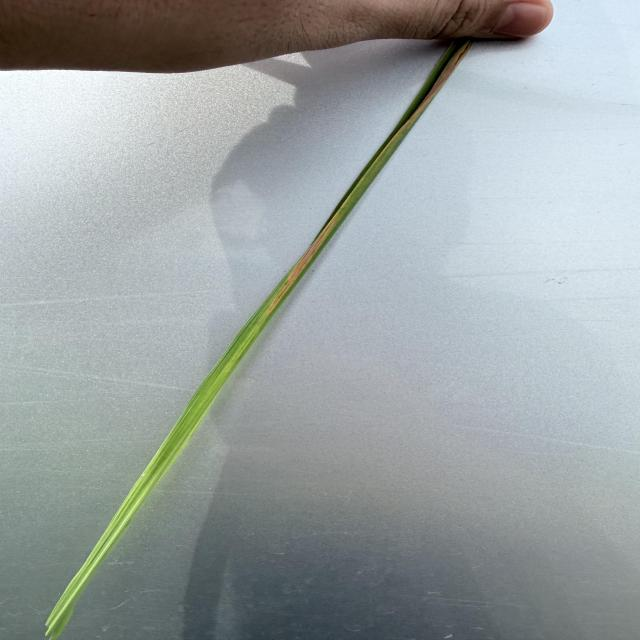Chay bia la: (387, 39, 475, 150), (262, 215, 335, 322)
